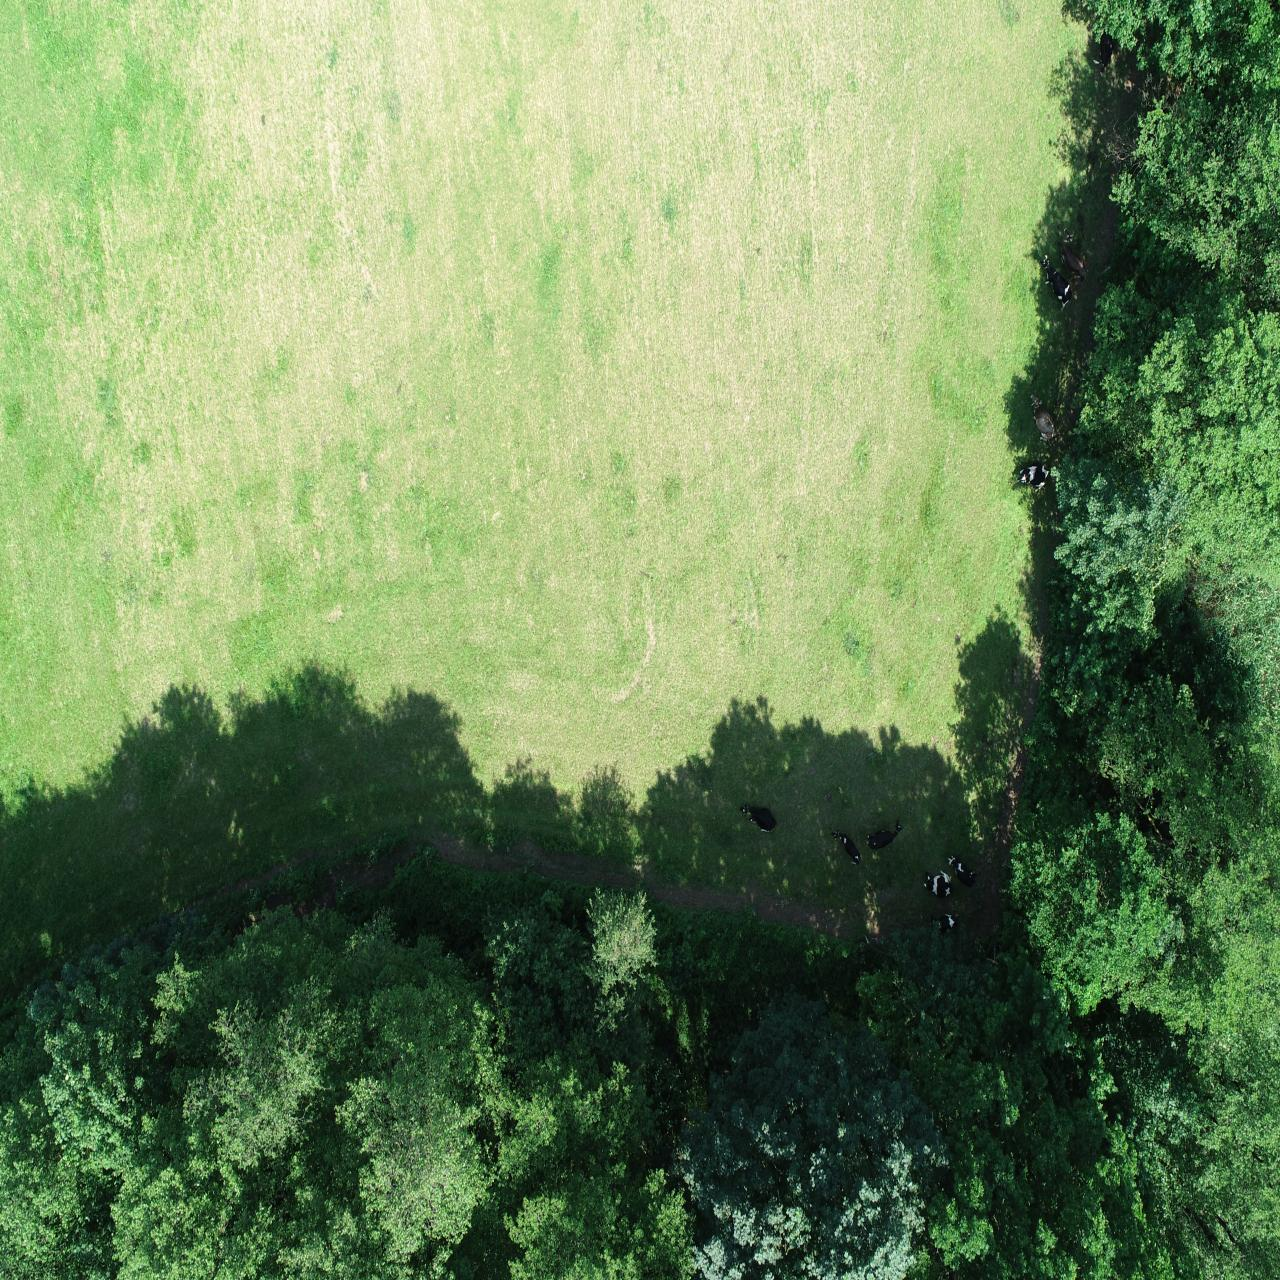cow: (1037, 251, 1075, 314), (1058, 226, 1088, 286), (1027, 390, 1058, 444), (865, 818, 904, 852), (738, 803, 778, 835), (830, 829, 862, 867), (1016, 462, 1051, 492)
